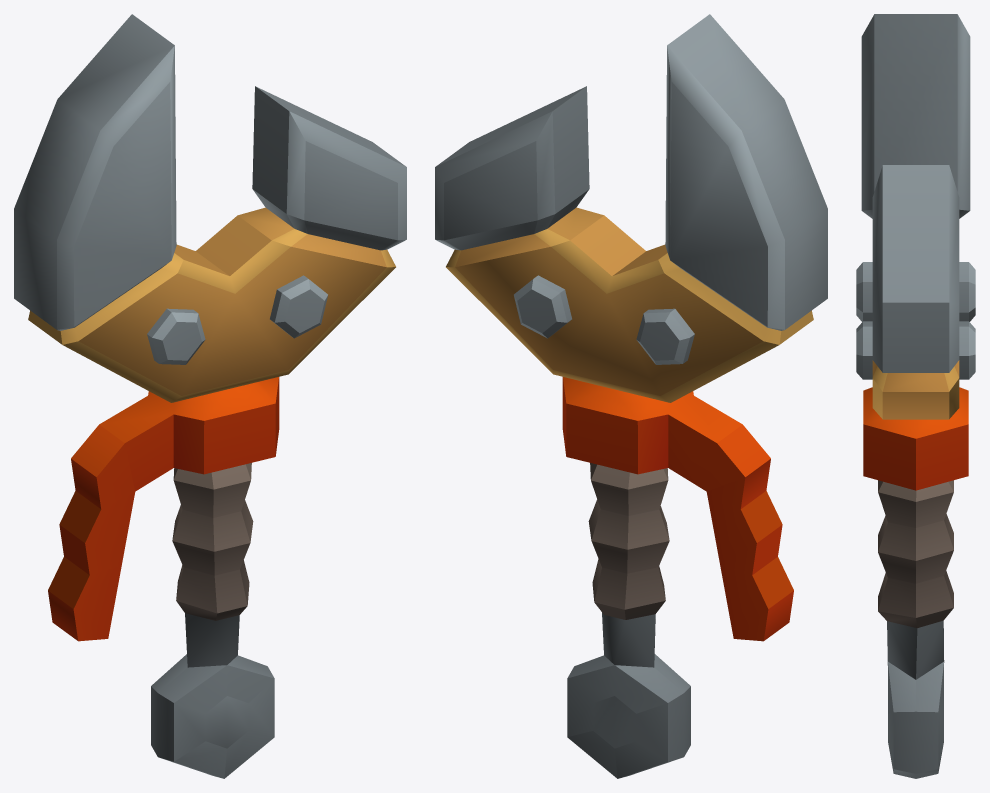
Rendered from engineer_Wrench.glb.
The picture shows the model from 3 angles, left to right: view 1: azimuth 30°, elevation 25°; view 2: azimuth 150°, elevation 25°; view 3: azimuth 270°, elevation 25°; orthographic projection. The views are drawn at different scales.
Parts seen in each view (by area): view 1: engineer_Wrench; view 2: engineer_Wrench; view 3: engineer_Wrench.
Boxes of the visible parts, box(x1,y1,x2,y2) form: engineer_Wrench: box(14, 14, 406, 778); engineer_Wrench: box(435, 14, 827, 778); engineer_Wrench: box(856, 14, 975, 778).
Bounding box in the file's own units: 0.7189 × 1.47 × 0.2168.
1 material, 1 textured.
